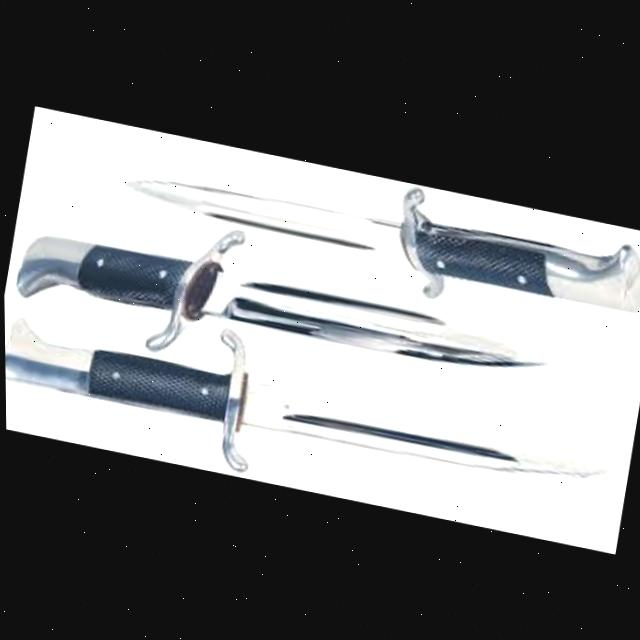knife: (3, 281, 632, 543), (6, 184, 562, 423), (112, 124, 640, 334)
